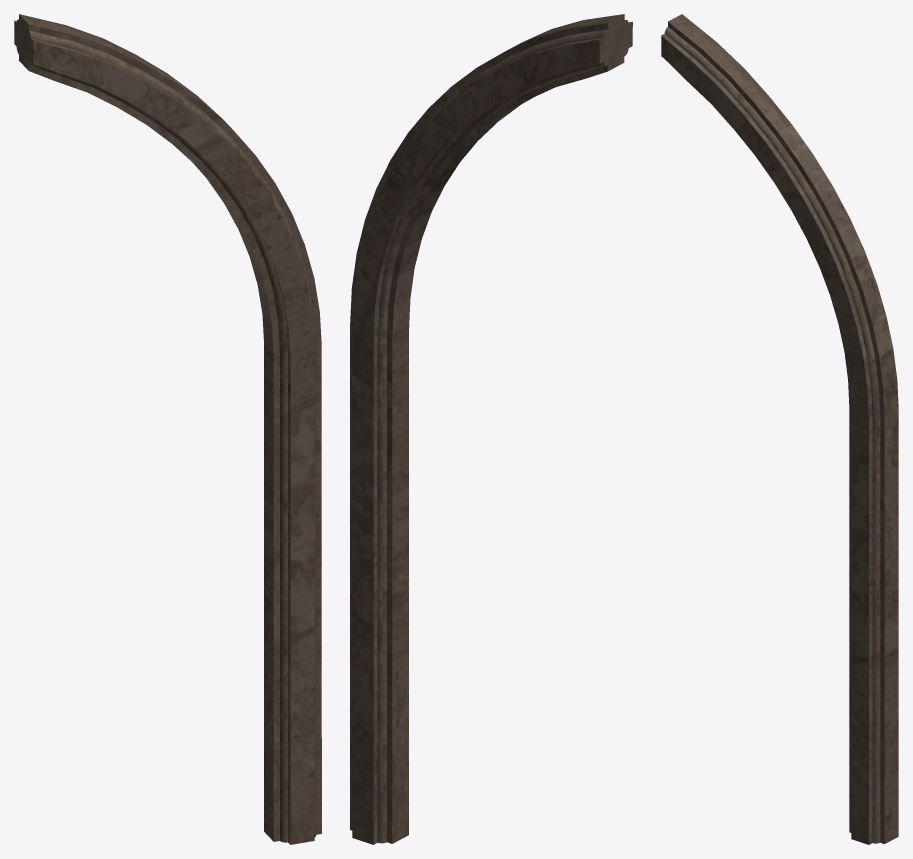
The model's file is half-door-frame.fbx.
The picture shows the model from 3 angles, left to right: view 1: azimuth 30°, elevation 25°; view 2: azimuth 150°, elevation 25°; view 3: azimuth 330°, elevation 25°; orthographic projection. The views are drawn at different scales.
Visible parts, largest first — view 1: half-door-part-2.001; view 2: half-door-part-2.001; view 3: half-door-part-2.001.
Boxes of the visible parts, <box> form: half-door-part-2.001: <box>14,14,321,844</box>; half-door-part-2.001: <box>350,14,632,844</box>; half-door-part-2.001: <box>661,14,898,844</box>.
Bounding box in the file's own units: 374 × 1114 × 111.
Materials: 1 (1 with a texture image).
